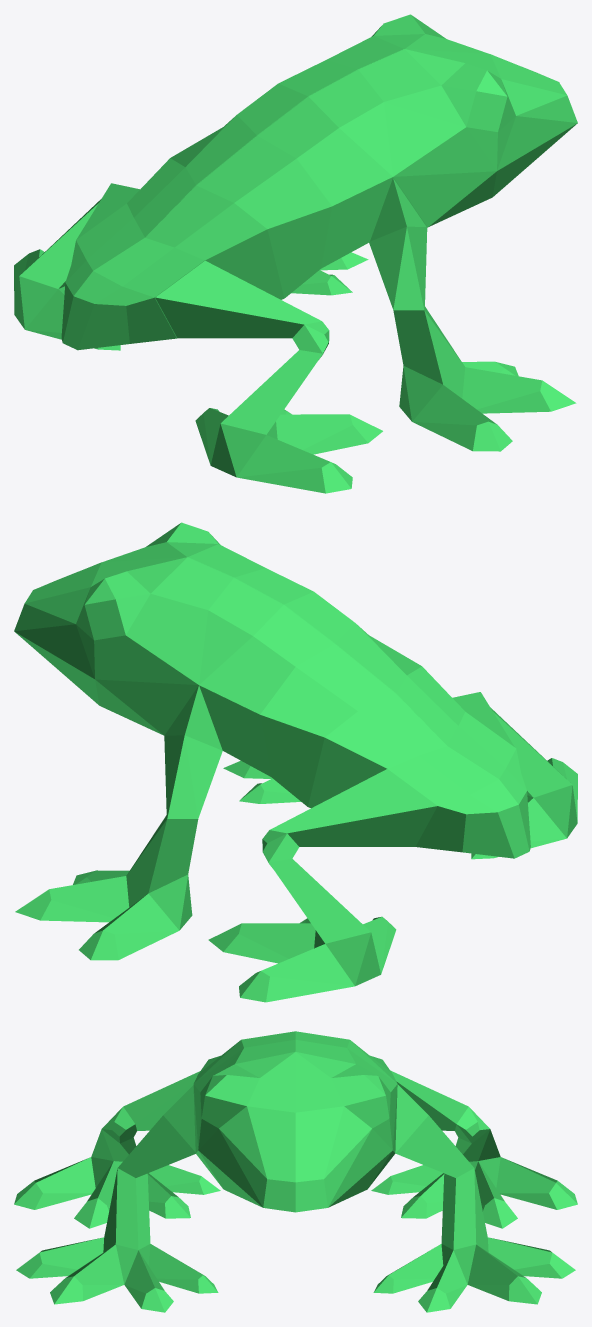
Rendered from frog.fbx.
The picture shows the model from 3 angles, top to bottom: view 1: azimuth 30°, elevation 25°; view 2: azimuth 150°, elevation 25°; view 3: azimuth 270°, elevation 25°; orthographic projection. The views are drawn at different scales.
Visible parts, largest first — view 1: Frog_Body, Frog_Right_back_3, Frog_Right_front_3, Frog_Right_back_1, Frog_Right_front_1, Frog_Right_back_2, Frog_Rightt_front_2, Frog_Left_back_3, Frog_Left_back_2, Frog_Left_front_3, Frog_Left_back_1; view 2: Frog_Body, Frog_Left_back_3, Frog_Left_front_3, Frog_Left_back_1, Frog_Left_front_1, Frog_Left_back_2, Frog_Left_front_2, Frog_Right_back_3, Frog_Right_back_2, Frog_Right_front_3, Frog_Right_back_1; view 3: Frog_Body, Frog_Left_front_3, Frog_Right_front_3, Frog_Left_back_3, Frog_Right_back_3, Frog_Left_front_1, Frog_Right_front_1, Frog_Left_front_2, Frog_Rightt_front_2, Frog_Left_back_1, Frog_Right_back_1, Frog_Left_back_2 (+1 smaller).
Boxes of the visible parts, x1,y1,x2,y2 form: Frog_Body: (61,14,577,350); Frog_Right_back_3: (195,408,382,493); Frog_Right_front_3: (399,361,576,451); Frog_Right_back_1: (155,260,321,338); Frog_Right_front_1: (369,178,427,310); Frog_Right_back_2: (221,321,329,434); Frog_Rightt_front_2: (393,306,464,384); Frog_Left_back_3: (14,249,120,350); Frog_Left_back_2: (19,199,100,288); Frog_Left_front_3: (291,252,368,295); Frog_Left_back_1: (76,183,139,239); Frog_Body: (14,522,530,858); Frog_Left_back_3: (208,916,396,1002); Frog_Left_front_3: (15,870,192,960); Frog_Left_back_1: (270,769,437,846); Frog_Left_front_1: (164,685,222,818); Frog_Left_back_2: (262,830,370,943); Frog_Left_front_2: (126,815,198,893); Frog_Right_back_3: (471,758,577,859); Frog_Right_back_2: (490,707,572,797); Frog_Right_front_3: (223,760,300,803); Frog_Right_back_1: (452,692,514,746); Frog_Body: (193,1031,397,1212); Frog_Left_front_3: (373,1237,575,1312); Frog_Right_front_3: (16,1237,218,1312); Frog_Left_back_3: (371,1157,577,1228); Frog_Right_back_3: (14,1157,220,1228); Frog_Left_front_1: (395,1084,473,1177); Frog_Right_front_1: (118,1085,195,1177); Frog_Left_front_2: (441,1168,487,1249); Frog_Rightt_front_2: (104,1168,150,1249); Frog_Left_back_1: (390,1070,468,1130); Frog_Right_back_1: (123,1071,199,1130); Frog_Left_back_2: (455,1107,500,1161).
Size of the model in its own units: 417 by 219 by 448.
